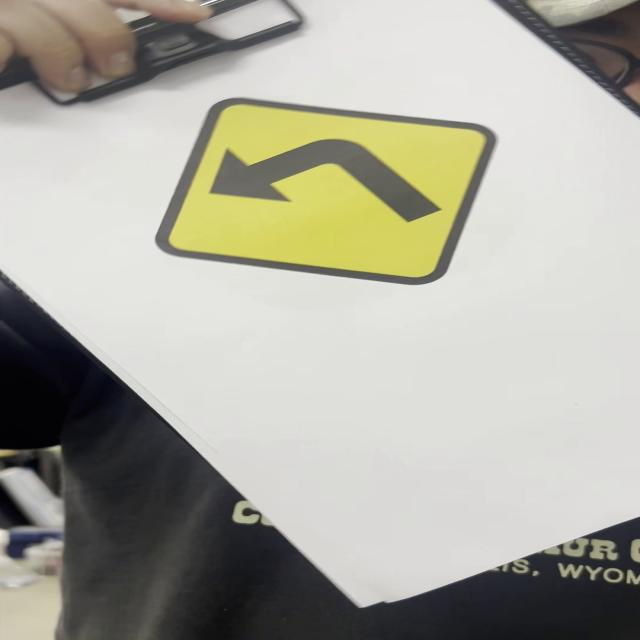left: (157, 96, 500, 287)
